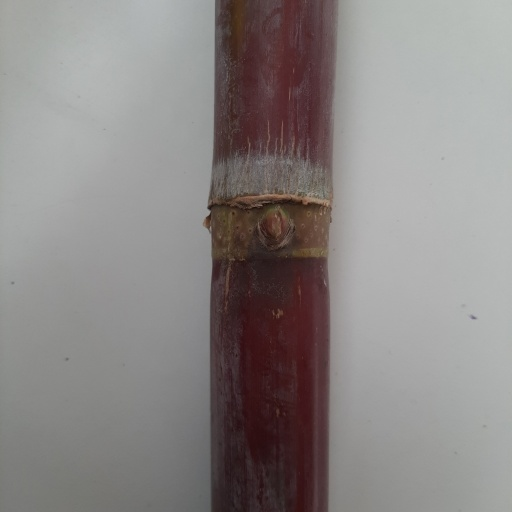Bud: (256, 204, 294, 252)
